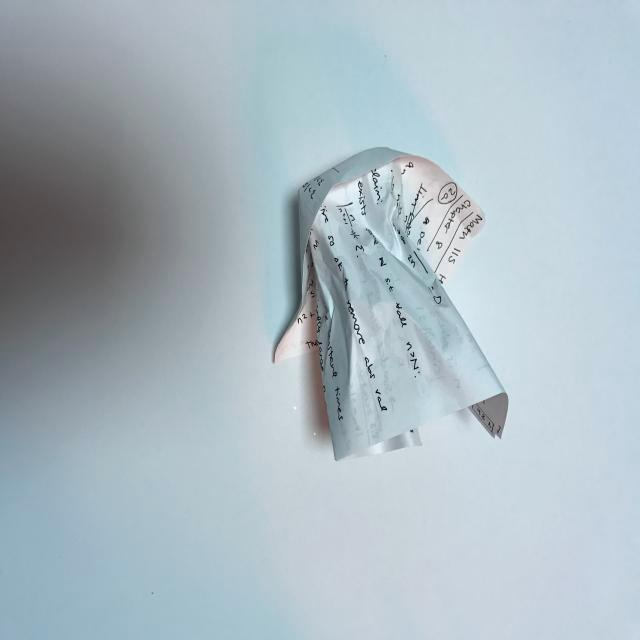paper: (272, 146, 516, 464)
